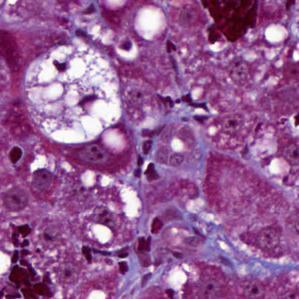ballooning: (22, 42, 125, 148)
